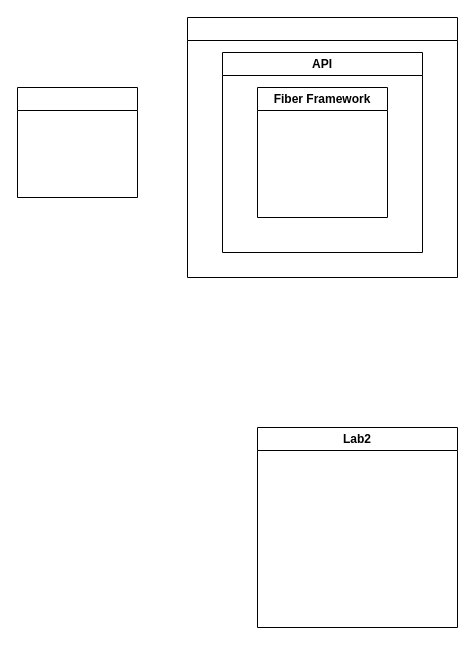
This 475x645 diagram has some shape labels left out. The shapes that lost their labels are listed below. From the top down, each one's box as (x1, y1, x2, y2) in pixels, then its label:
(16, 86, 138, 198): JWT authentication
(186, 16, 458, 278): Docker Container
